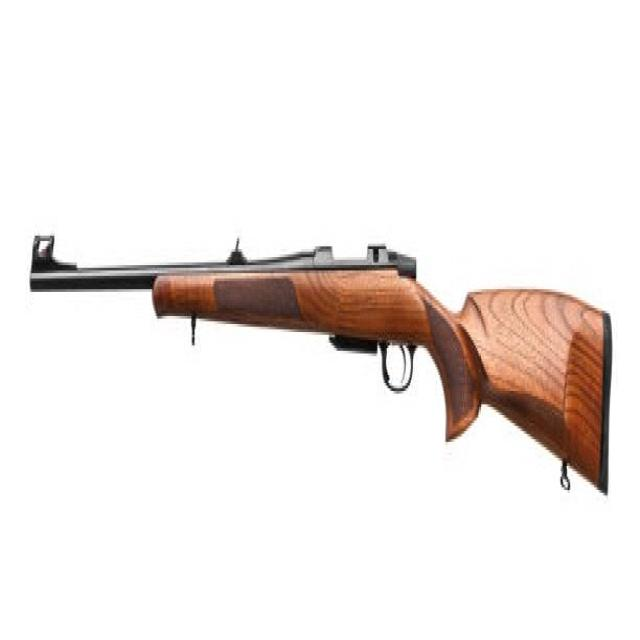rifle: (25, 207, 625, 518)
